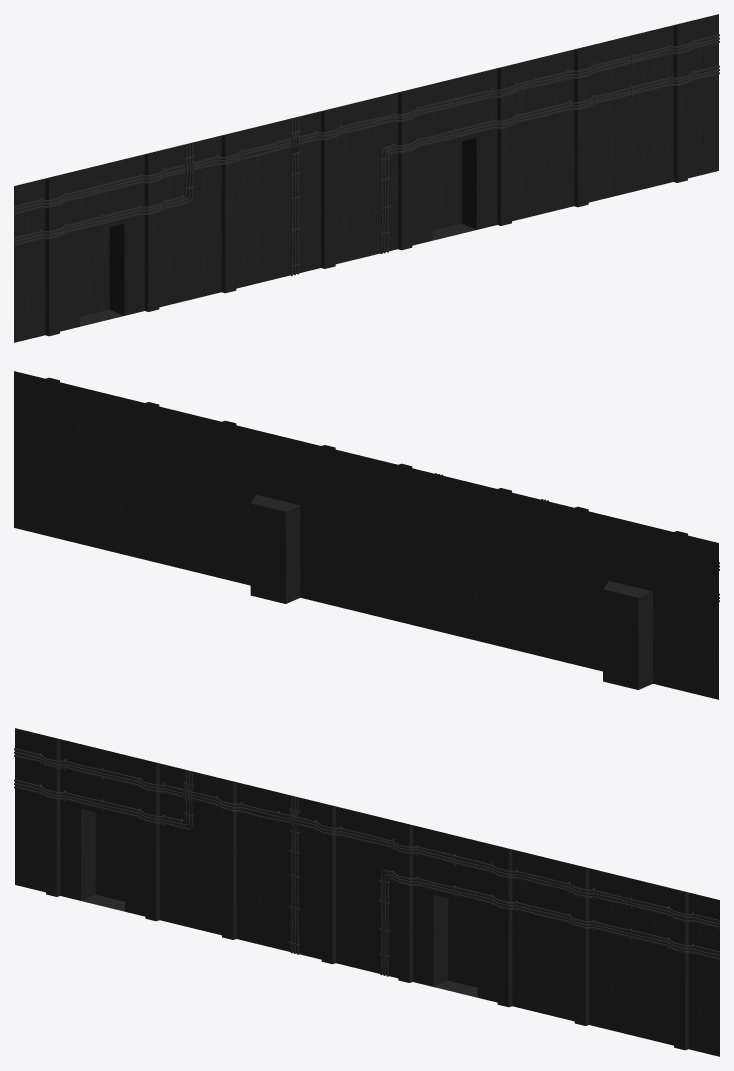
File: SW_ENV_RailTunnelWall_B_03a_20m_FF.fbx
The picture shows the model from 3 angles, top to bottom: view 1: azimuth 30°, elevation 25°; view 2: azimuth 150°, elevation 25°; view 3: azimuth 330°, elevation 25°; orthographic projection.
Visible parts, largest first — view 1: SW_ENV_RailTunnelWall_B_03a_20m_FF; view 2: SW_ENV_RailTunnelWall_B_03a_20m_FF; view 3: SW_ENV_RailTunnelWall_B_03a_20m_FF.
Boxes of the visible parts, x1,y1,x2,y2 form: SW_ENV_RailTunnelWall_B_03a_20m_FF: (14, 14, 719, 342); SW_ENV_RailTunnelWall_B_03a_20m_FF: (14, 371, 719, 699); SW_ENV_RailTunnelWall_B_03a_20m_FF: (14, 728, 719, 1056).
Size of the model in its own units: 2000 by 425 by 64.88.
